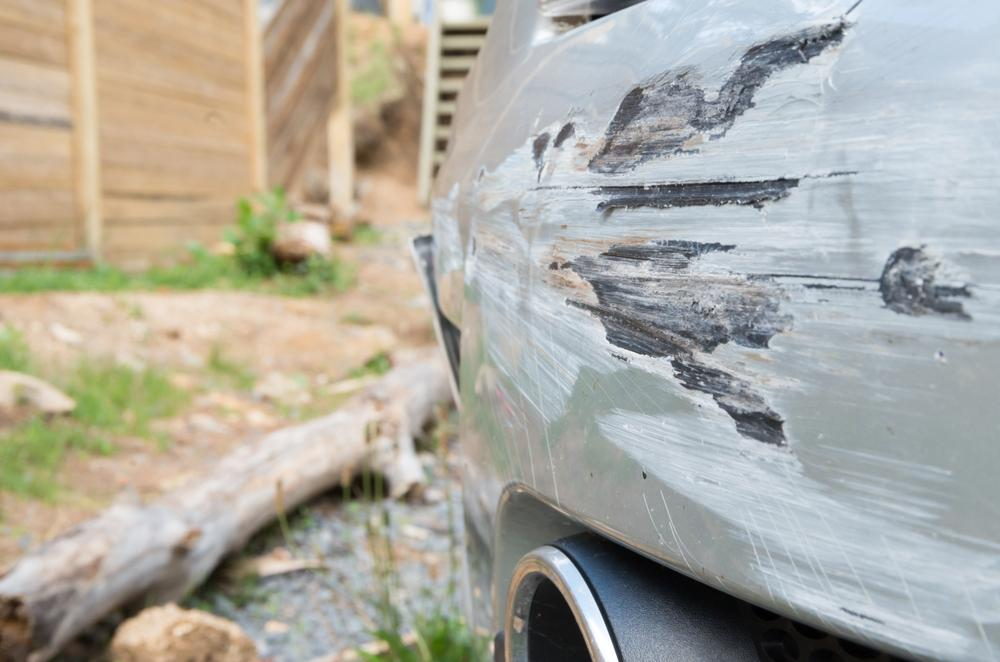scratch: (428, 0, 1000, 662)
